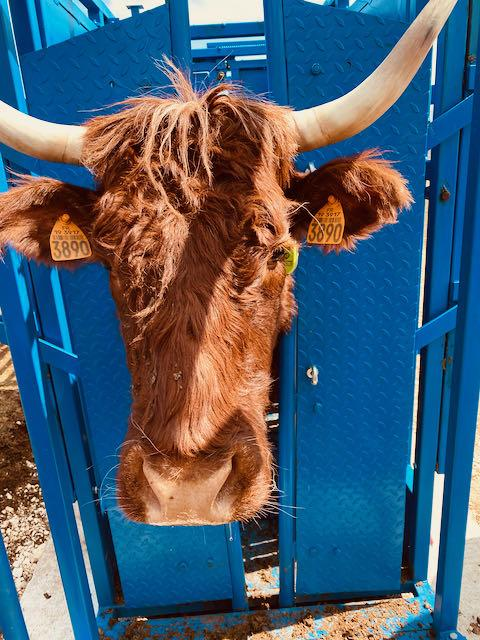muzzles: (110, 443, 276, 533)
